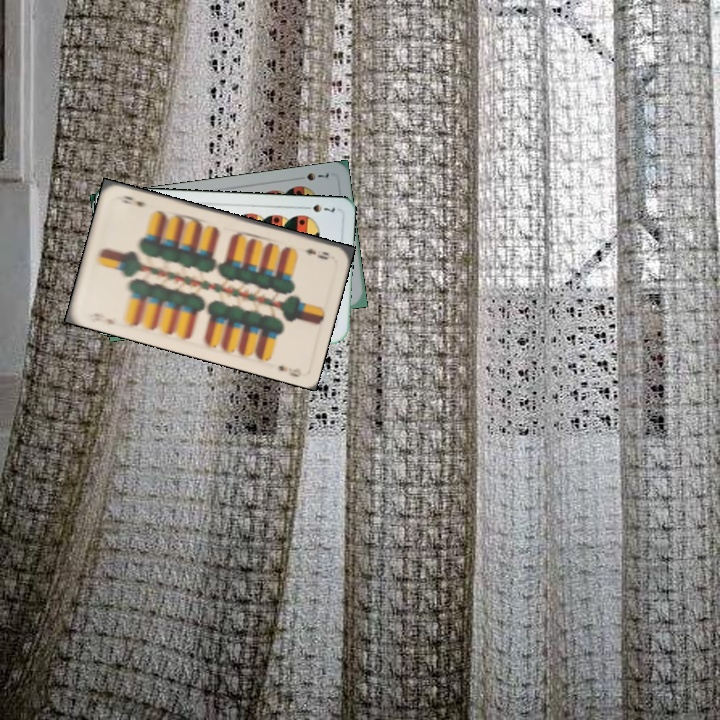E9: (85, 309, 118, 328), (300, 244, 332, 262)
S7: (298, 200, 338, 215), (303, 168, 331, 183)
